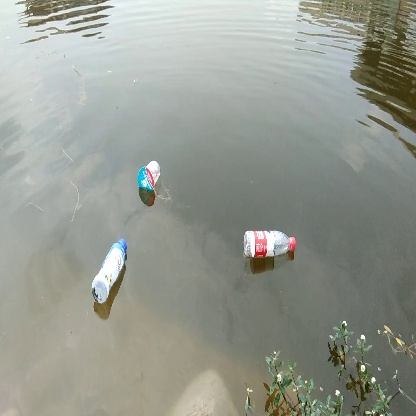bottle: (88, 236, 131, 307), (240, 227, 299, 260), (133, 154, 165, 197)
